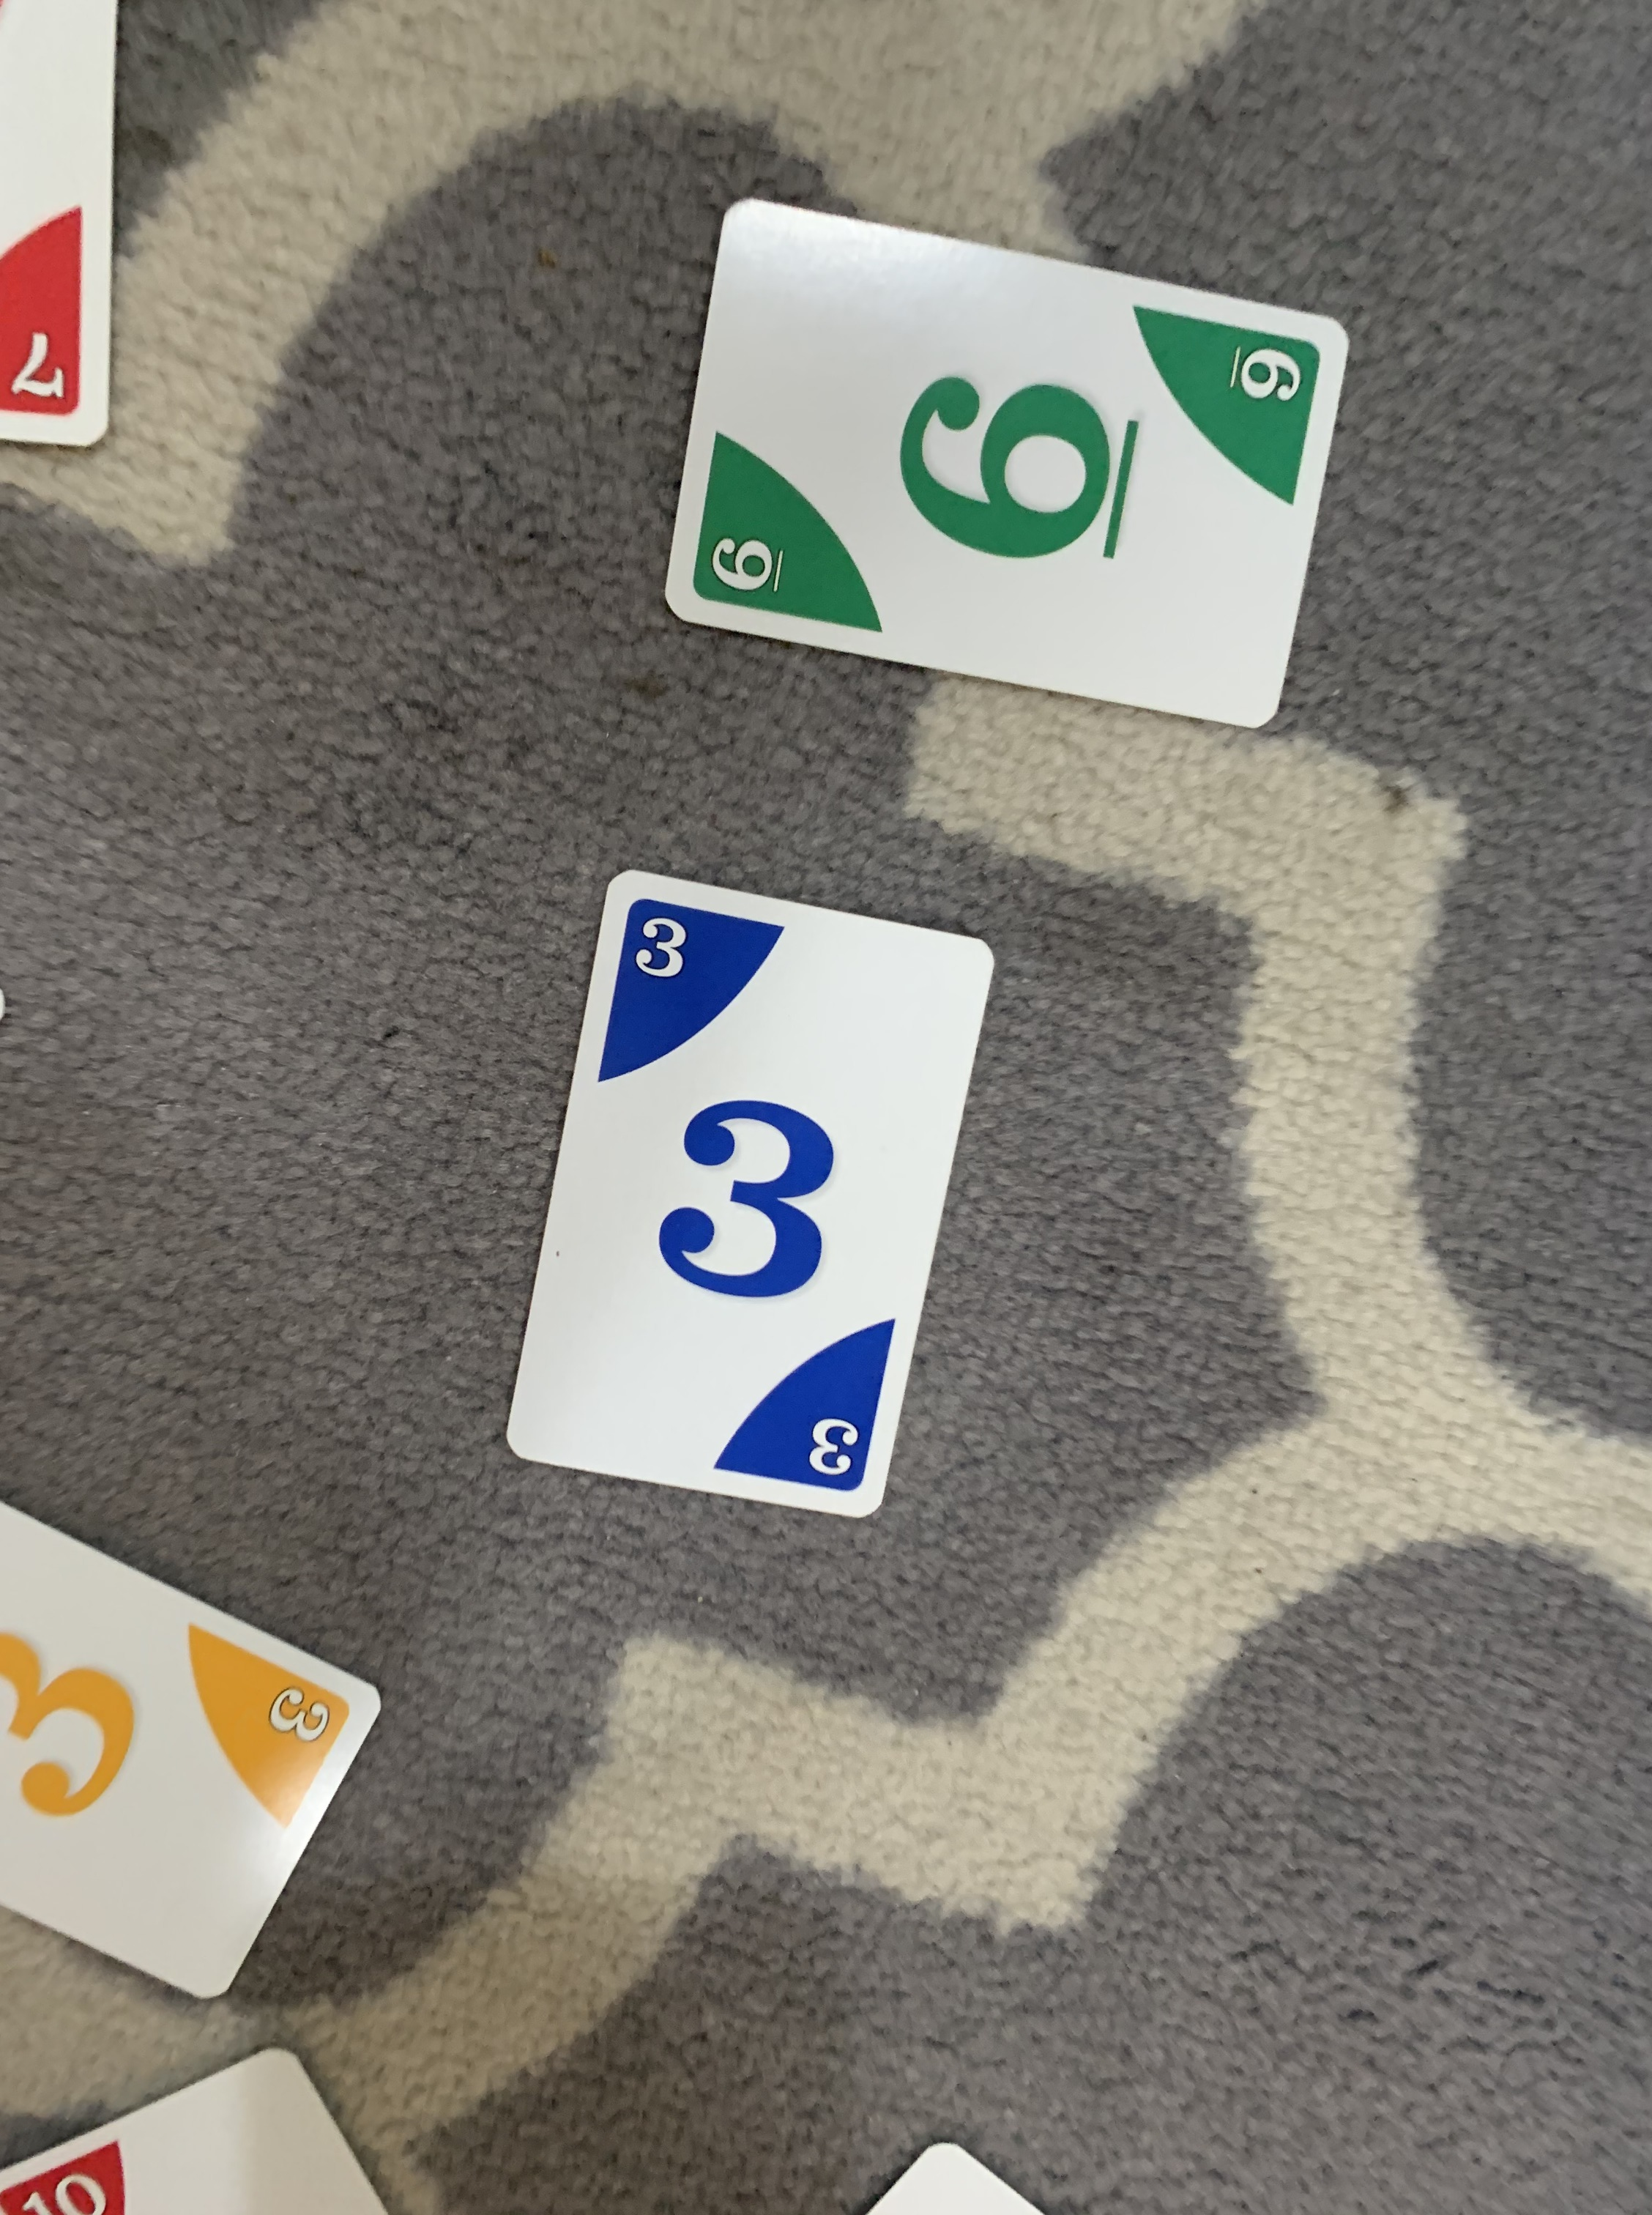six: (652, 182, 1366, 755)
three: (488, 859, 1010, 1541)
